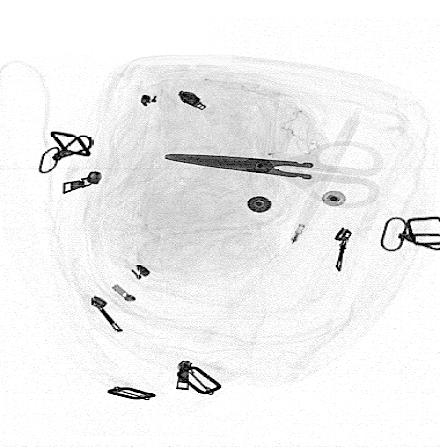Scissors: (166, 139, 388, 212)
